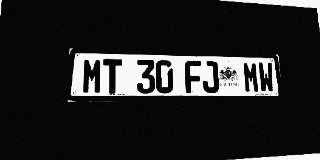0: (155, 60, 173, 93)
3: (137, 59, 155, 93)
F: (185, 61, 202, 93)
J: (202, 61, 219, 93)
M: (82, 58, 102, 94), (243, 62, 260, 93)
T: (102, 59, 122, 94)
W: (258, 62, 275, 93)
